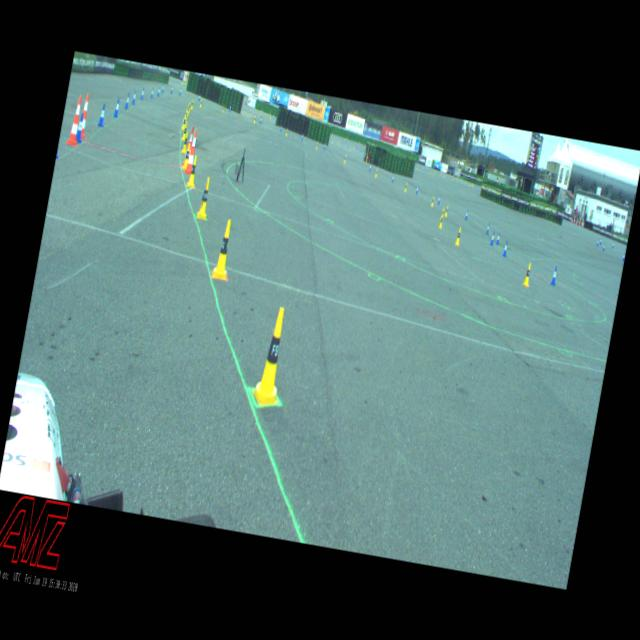blue_cone: (76, 112, 86, 144), (97, 102, 107, 127), (112, 96, 121, 118), (550, 265, 558, 286), (502, 240, 509, 256), (124, 92, 130, 110), (131, 90, 137, 106), (495, 231, 500, 245), (490, 230, 494, 245), (485, 222, 490, 234), (140, 86, 144, 100), (436, 193, 441, 204), (150, 87, 154, 99), (464, 209, 468, 220), (156, 86, 160, 96), (414, 184, 418, 194), (368, 162, 372, 172), (602, 242, 606, 251), (178, 86, 182, 95), (621, 252, 625, 261), (160, 84, 164, 93), (228, 103, 232, 112), (390, 174, 394, 182), (300, 132, 304, 140), (170, 84, 173, 94), (259, 115, 262, 124), (611, 240, 614, 249), (599, 237, 602, 246), (596, 238, 599, 246), (323, 142, 326, 149), (198, 92, 200, 101), (280, 125, 282, 132), (347, 143, 349, 147)
large_orange_cone: (66, 94, 86, 146), (74, 92, 92, 140), (181, 124, 197, 168), (184, 128, 198, 173), (572, 214, 576, 224), (578, 215, 582, 225), (580, 217, 584, 226), (574, 217, 578, 224), (570, 215, 573, 222)
yellow_cone: (248, 303, 294, 409), (211, 218, 236, 280), (195, 176, 213, 220), (186, 155, 199, 188), (181, 142, 192, 170), (522, 262, 532, 287), (180, 131, 190, 154), (454, 226, 462, 246), (180, 122, 188, 140), (181, 113, 188, 131), (186, 100, 192, 112), (438, 214, 443, 228), (185, 104, 190, 117), (342, 152, 347, 164), (183, 110, 188, 122), (403, 182, 408, 193), (444, 204, 448, 217), (440, 207, 444, 220), (373, 168, 378, 178), (430, 196, 434, 207), (198, 99, 202, 108), (284, 128, 288, 136), (315, 140, 318, 150), (253, 115, 256, 124), (190, 100, 193, 108), (222, 104, 224, 112), (332, 138, 334, 144), (349, 145, 351, 151), (352, 145, 354, 149), (337, 140, 339, 144), (338, 141, 340, 145)
